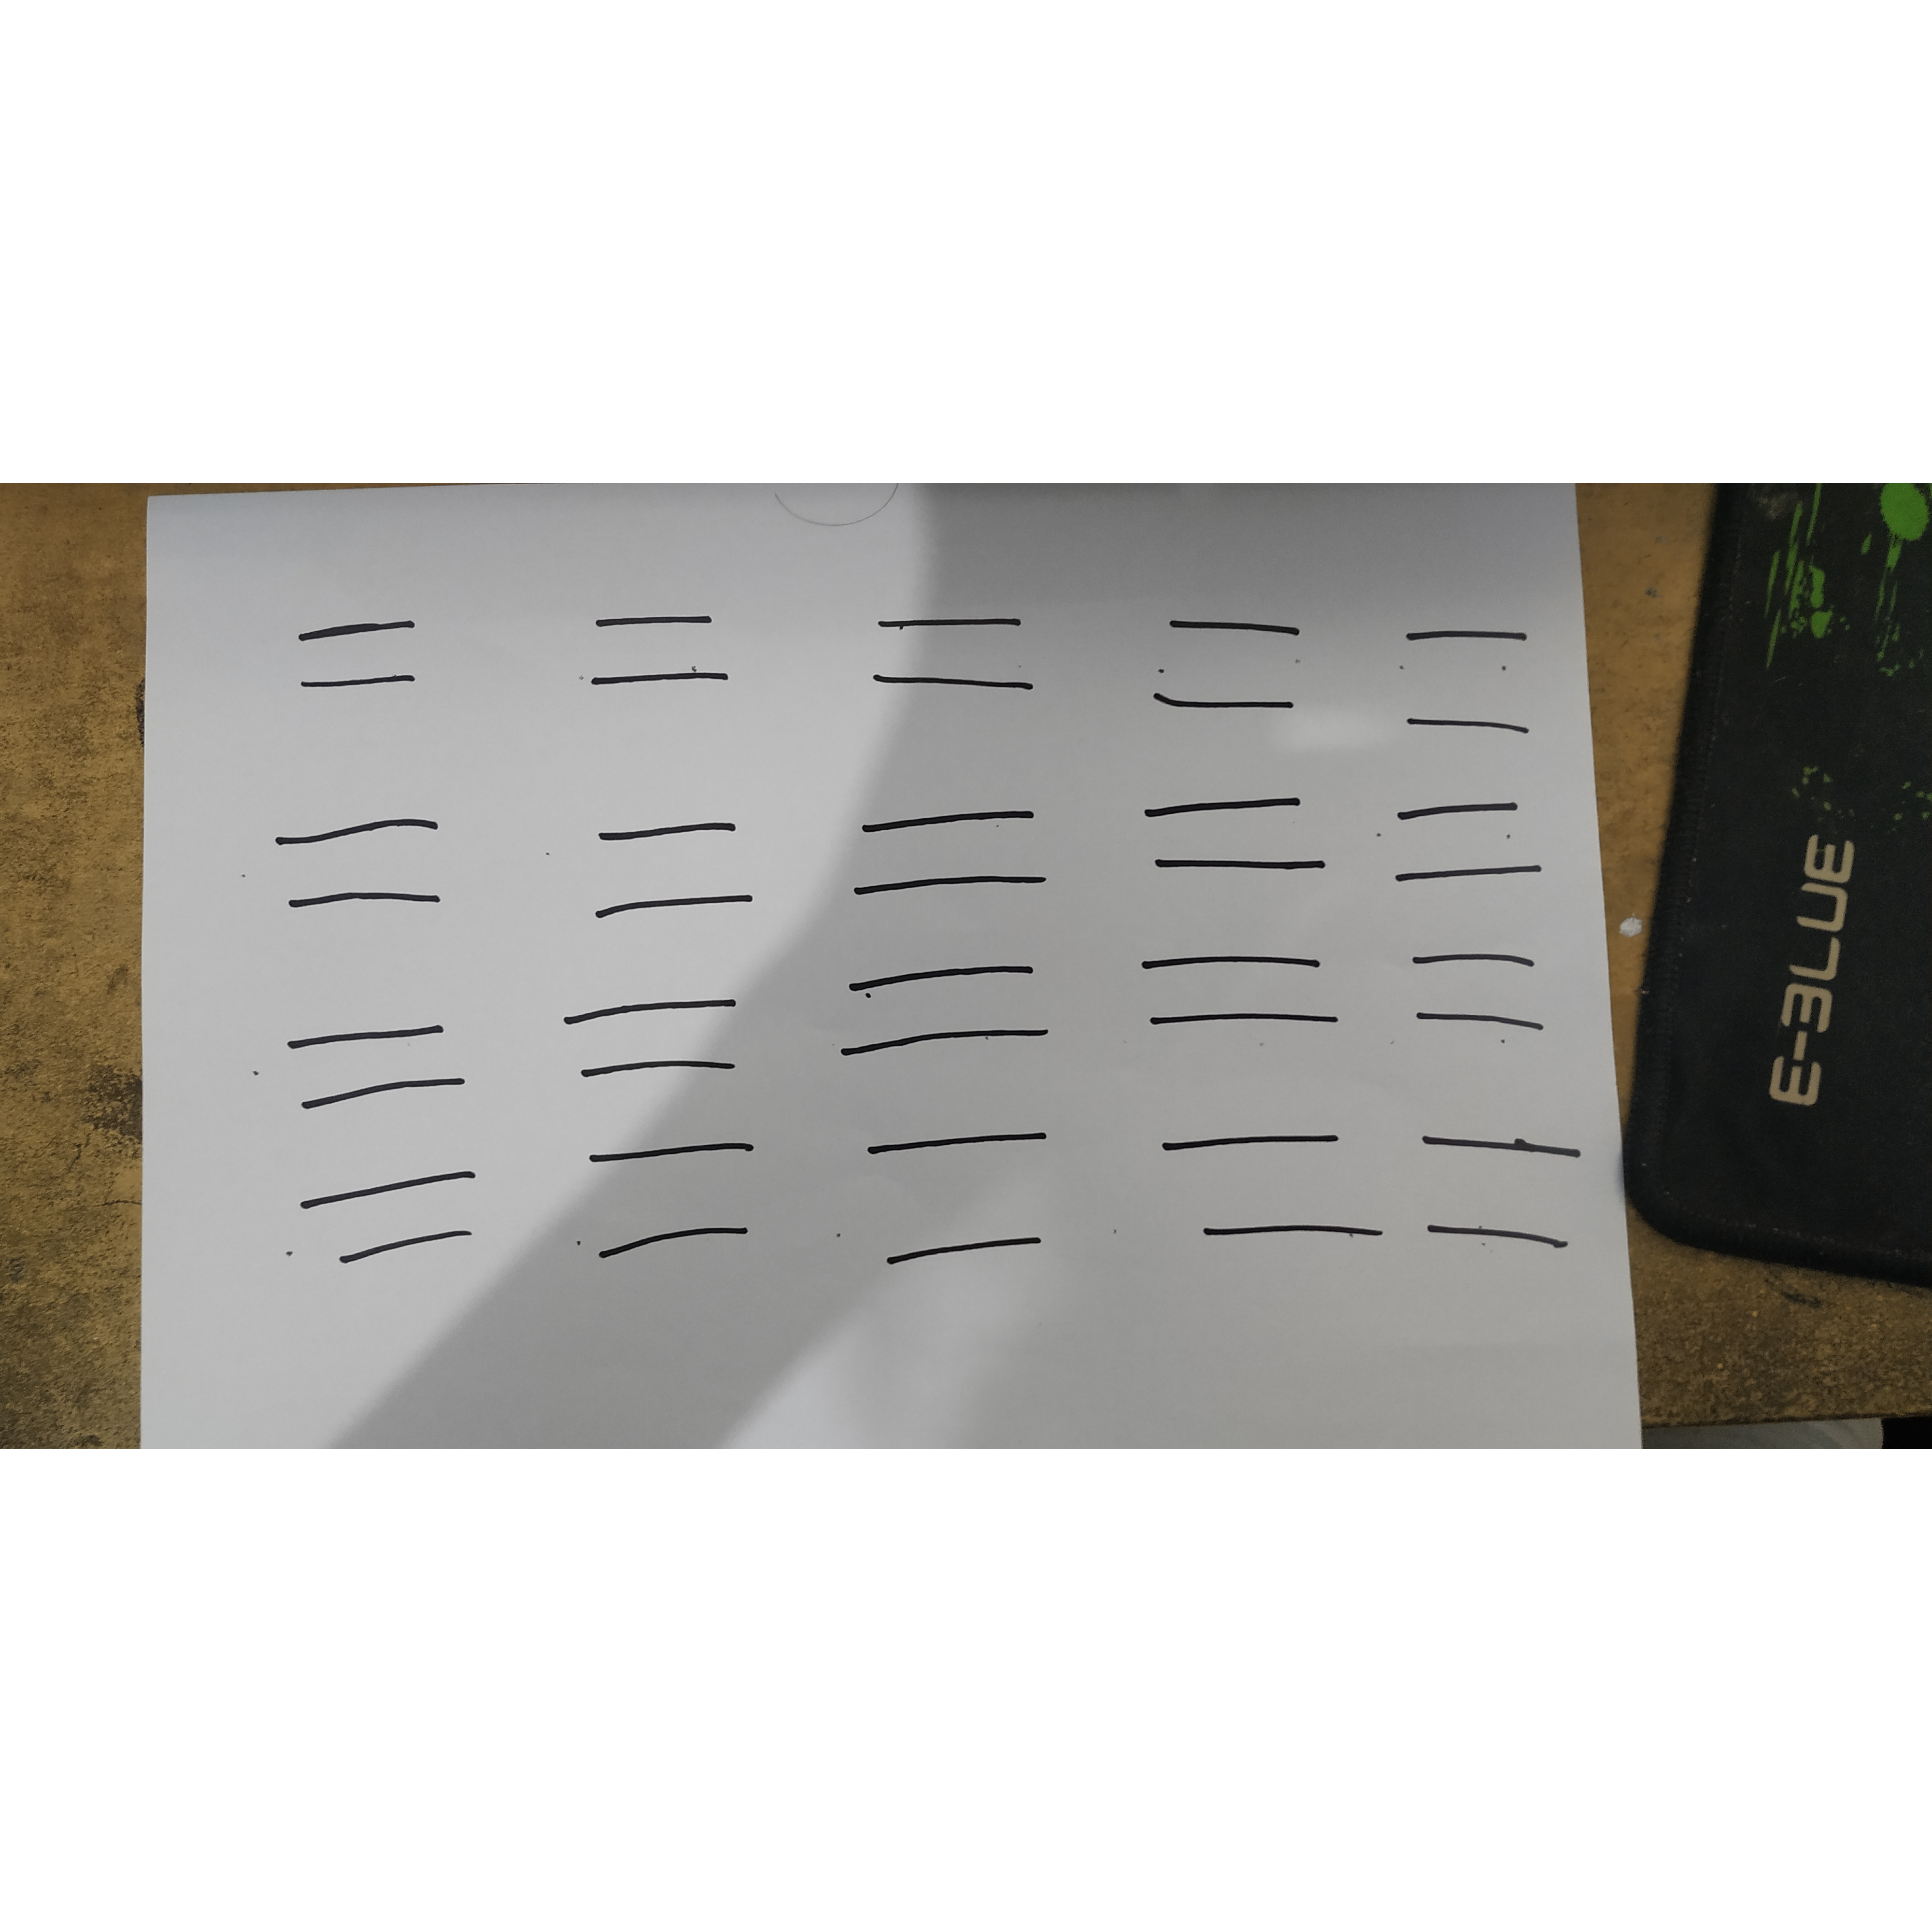equal: (838, 1123, 1103, 1300), (1143, 1115, 1399, 1266), (1412, 1113, 1614, 1268), (566, 1134, 793, 1268), (566, 798, 776, 943), (847, 804, 1072, 924), (1118, 943, 1360, 1050), (251, 802, 469, 918), (268, 603, 461, 729), (862, 603, 1072, 718), (1126, 785, 1362, 888), (1143, 597, 1321, 726), (265, 1165, 522, 1256), (826, 968, 1061, 1065), (1393, 607, 1544, 754), (572, 597, 765, 712), (274, 1014, 480, 1119), (1402, 932, 1567, 1056), (547, 999, 763, 1088), (1385, 790, 1557, 890)
